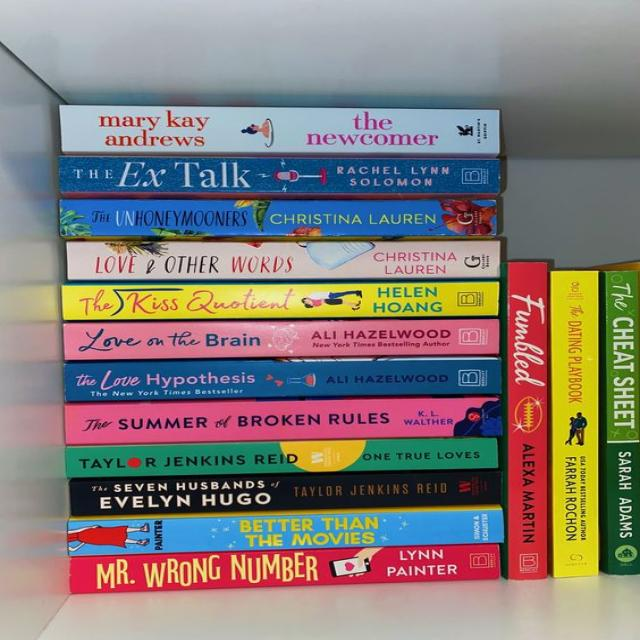book: (60, 105, 499, 157), (65, 397, 502, 446), (70, 507, 503, 556), (70, 545, 498, 593), (70, 471, 499, 516), (65, 358, 499, 402), (64, 319, 498, 361), (66, 241, 498, 281), (65, 438, 497, 477), (59, 156, 499, 194), (59, 199, 499, 237), (64, 282, 498, 320), (551, 271, 598, 577), (506, 261, 548, 579), (600, 262, 639, 574)
